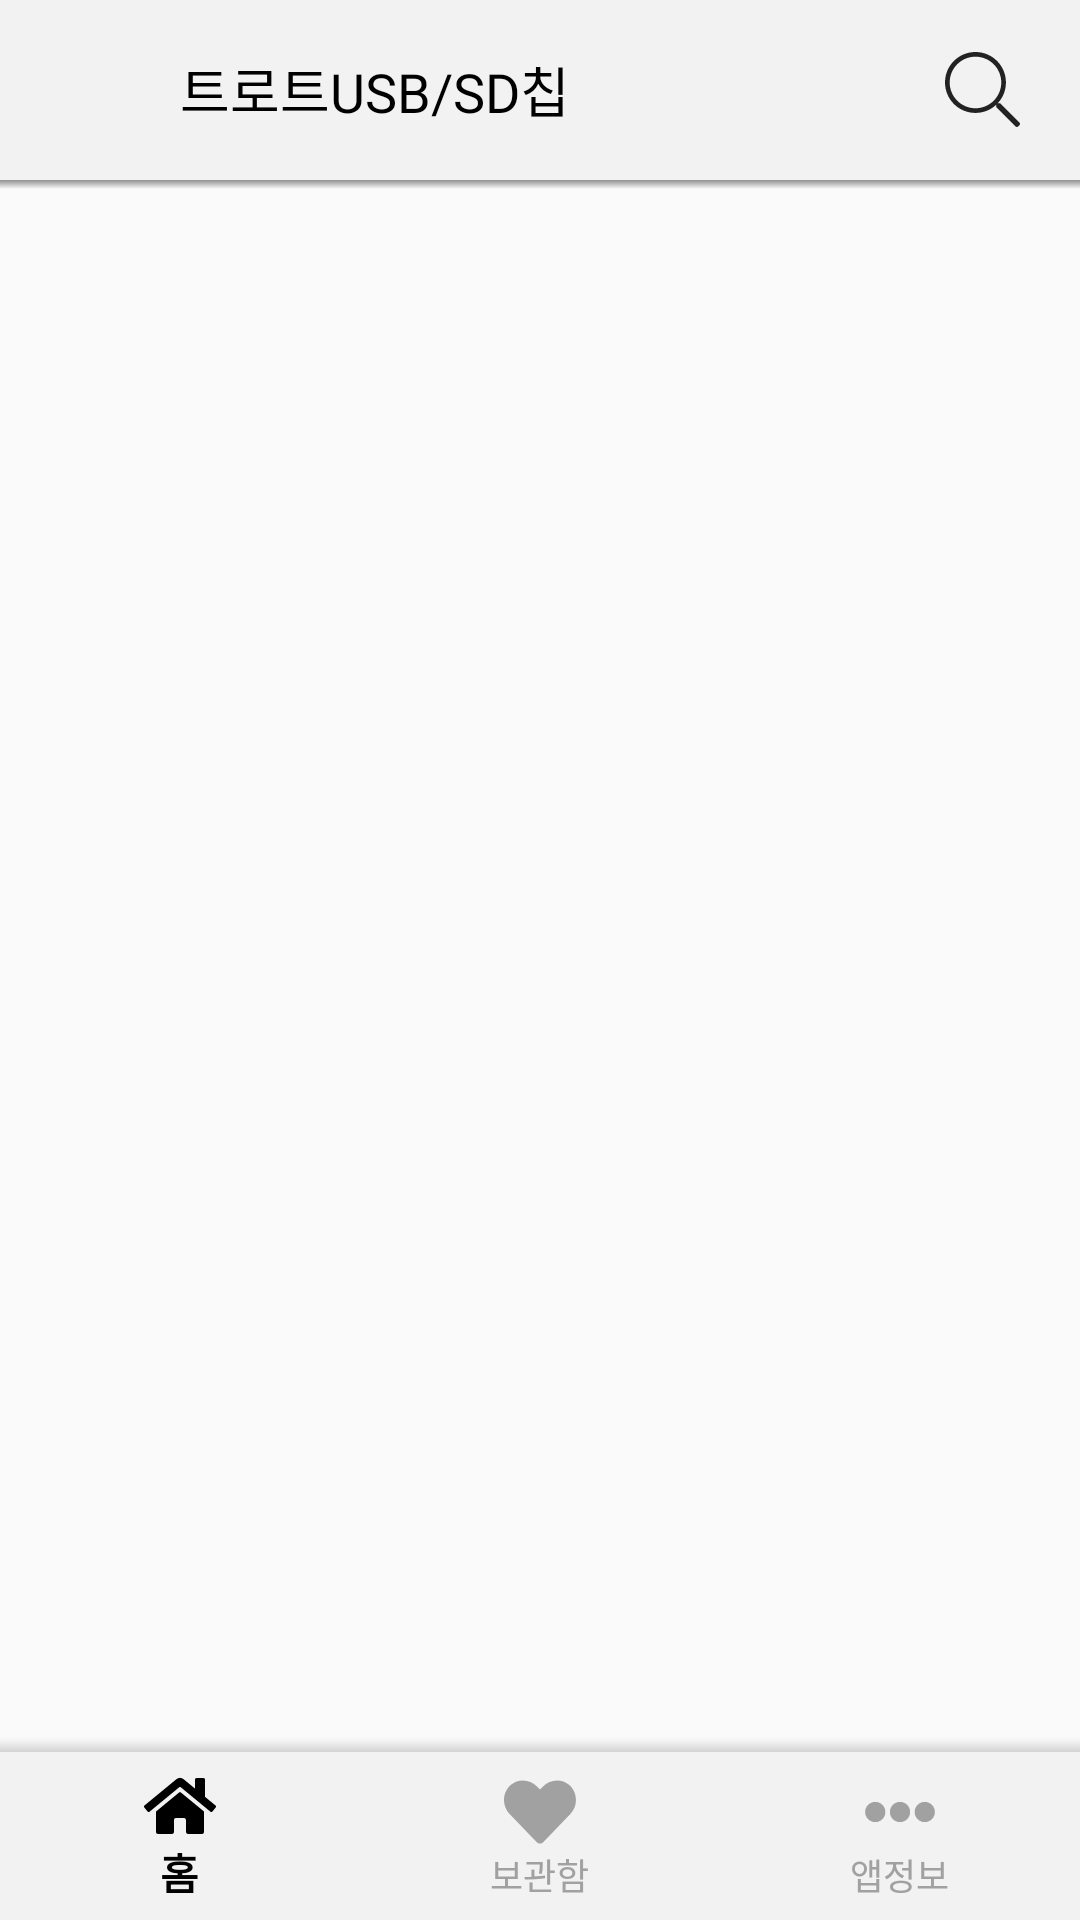

Where to tap for icons on this 1080 × 1920 app screen, as (x=x, y=y):
search: (x=982, y=89)
